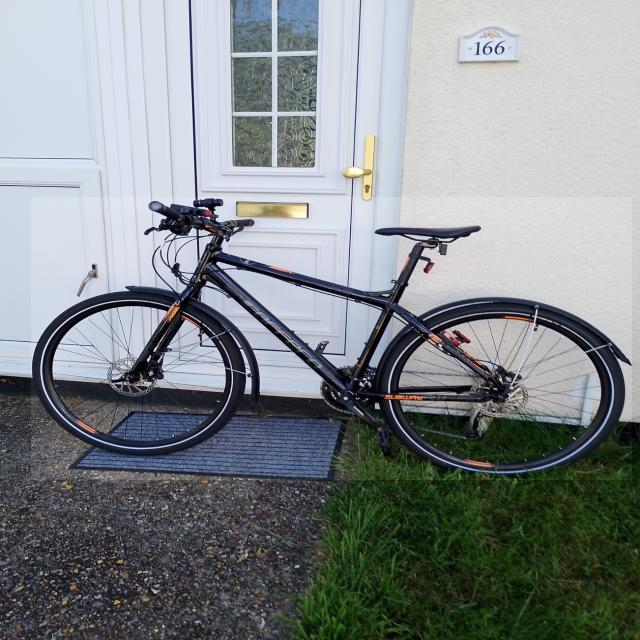bicycle: (31, 197, 632, 480)
